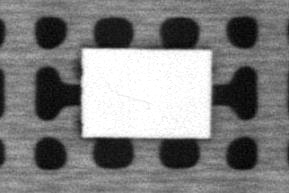DIE_CRACK: (117, 92, 158, 108)
